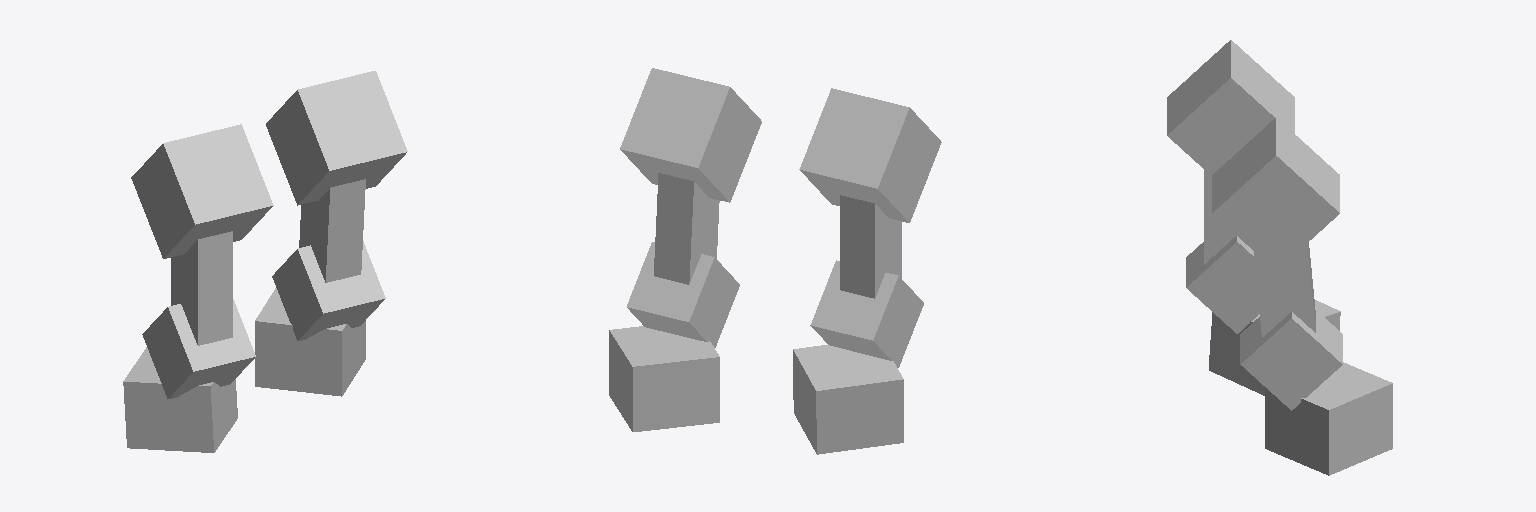
The model's file is mt_horse_bf.obj.
3 views of the same model, side by side, from view 1: azimuth 30°, elevation 25°; view 2: azimuth 150°, elevation 25°; view 3: azimuth 270°, elevation 25° (orthographic).
Parts seen in each view (by area): view 1: cube.006, cube.005, cube.001, cube.002, cube.003, cube.000, cube, cube.004; view 2: cube.005, cube.006, cube.001, cube.002, cube.000, cube.003, cube.004, cube; view 3: cube.006, cube.005, cube.002, cube.003, cube.000, cube.004, cube.001, cube.
Part boxes in pixels (x1,y1,x2,y2): cube.006: (266, 71, 407, 205); cube.005: (131, 124, 273, 258); cube.001: (123, 347, 237, 452); cube.002: (255, 288, 365, 396); cube.003: (272, 241, 385, 340); cube.000: (142, 299, 255, 398); cube: (171, 231, 232, 345); cube.004: (299, 179, 365, 282); cube.005: (799, 88, 941, 222); cube.006: (620, 68, 761, 202); cube.001: (793, 345, 903, 454); cube.002: (609, 326, 719, 431); cube.000: (810, 260, 923, 367); cube.003: (627, 242, 739, 347); cube.004: (654, 173, 719, 284); cube: (840, 195, 901, 298); cube.006: (1212, 117, 1339, 270); cube.005: (1167, 40, 1294, 175); cube.002: (1265, 362, 1392, 475); cube.003: (1240, 309, 1342, 410); cube.000: (1186, 236, 1259, 333); cube.004: (1254, 242, 1315, 337); cube.001: (1209, 300, 1340, 395); cube: (1204, 170, 1235, 264).
Size of the model in its own units: 1.04 by 1.17 by 0.7554.